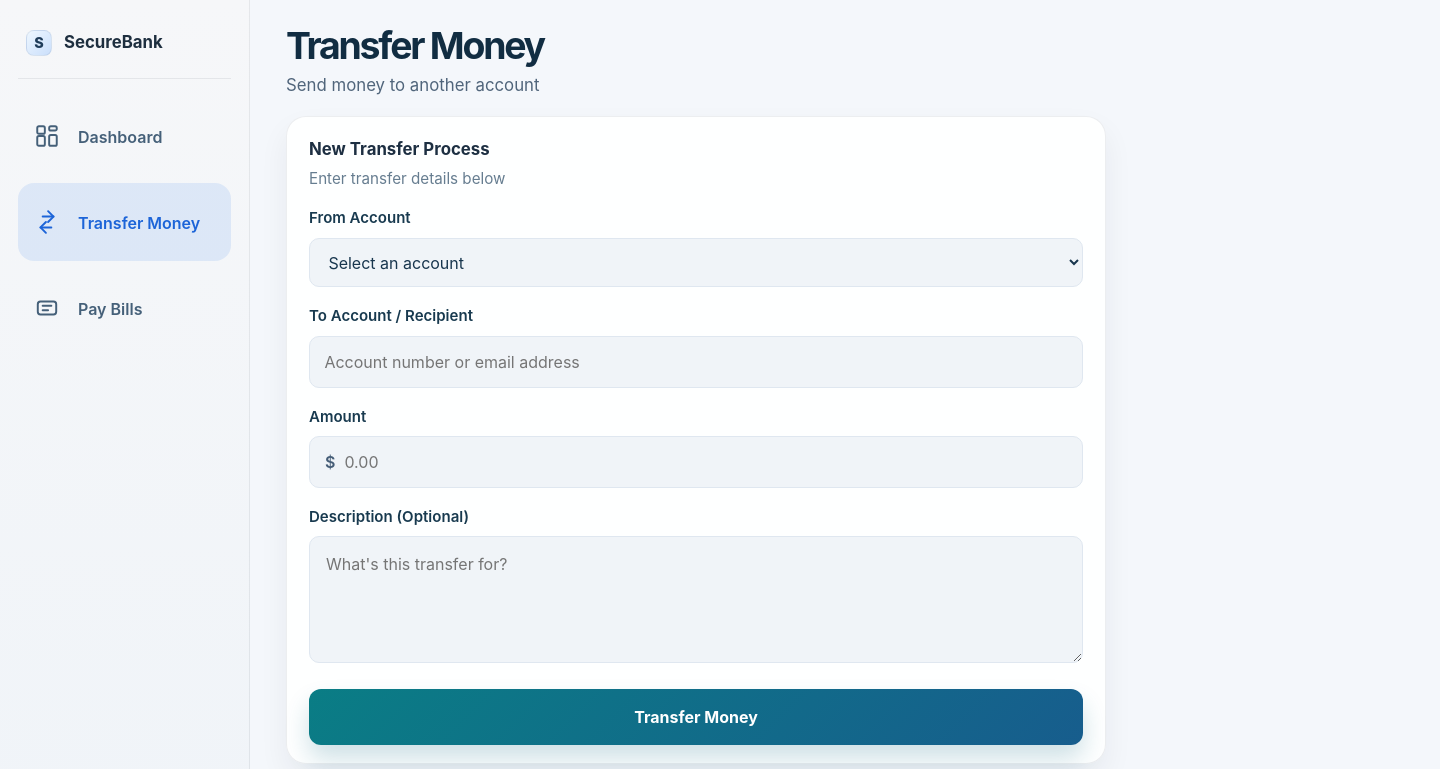
Scenario: Signup screen › blocks submission and shows errors when required fields are missing
This screenshot has width=1440, height=769.
What coordinates should you click on to do the following:
click the button with aria-label "submit transfer"
I would click on:
 (696, 717)
Its box is [309, 689, 1083, 745].
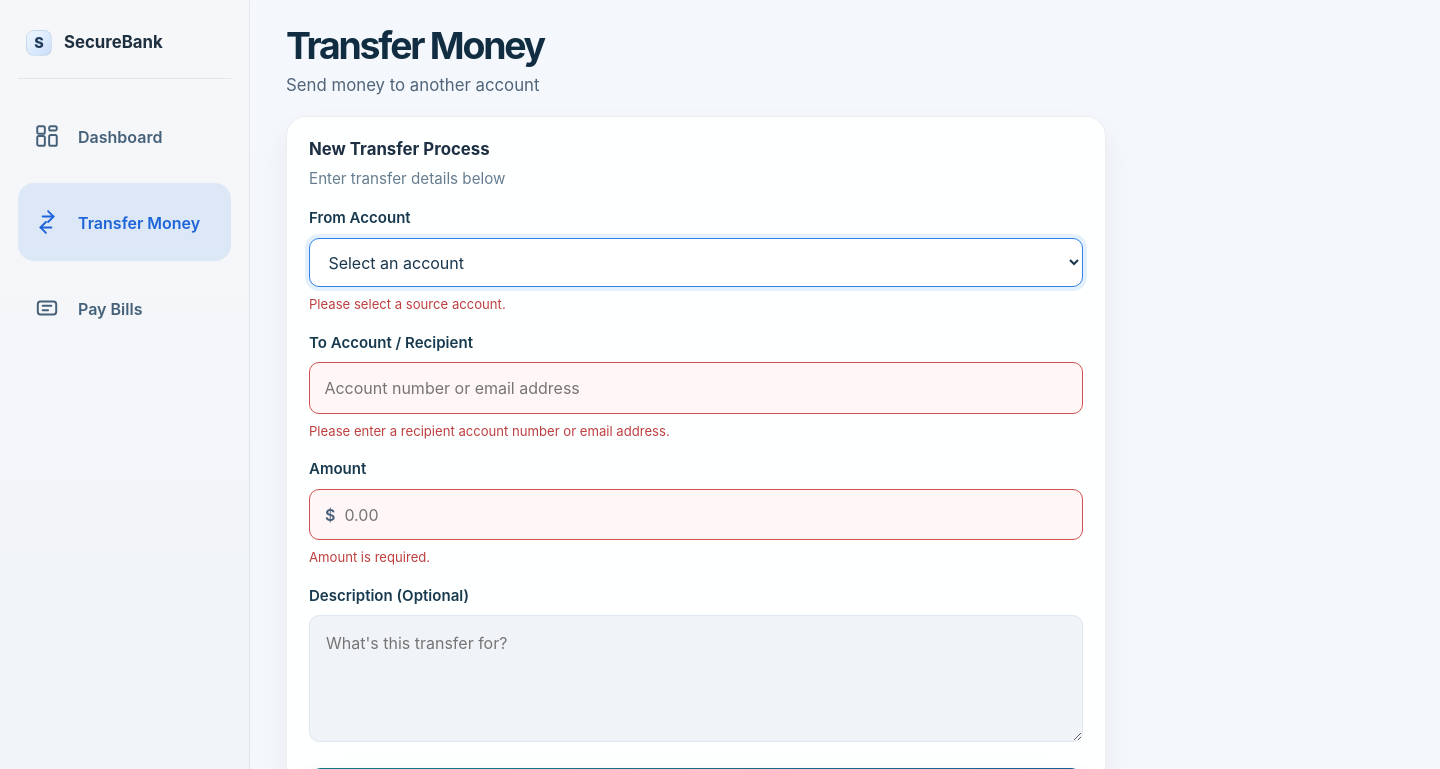
Expected: the text "Please select a source account." is shown, [309, 296, 506, 312]
Expected: the text "Please enter a recipient account number or email address." is shown, [309, 423, 670, 439]
Expected: the text "Amount is required." is shown, [309, 549, 430, 565]
